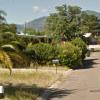Tree: (40, 4, 94, 68)
